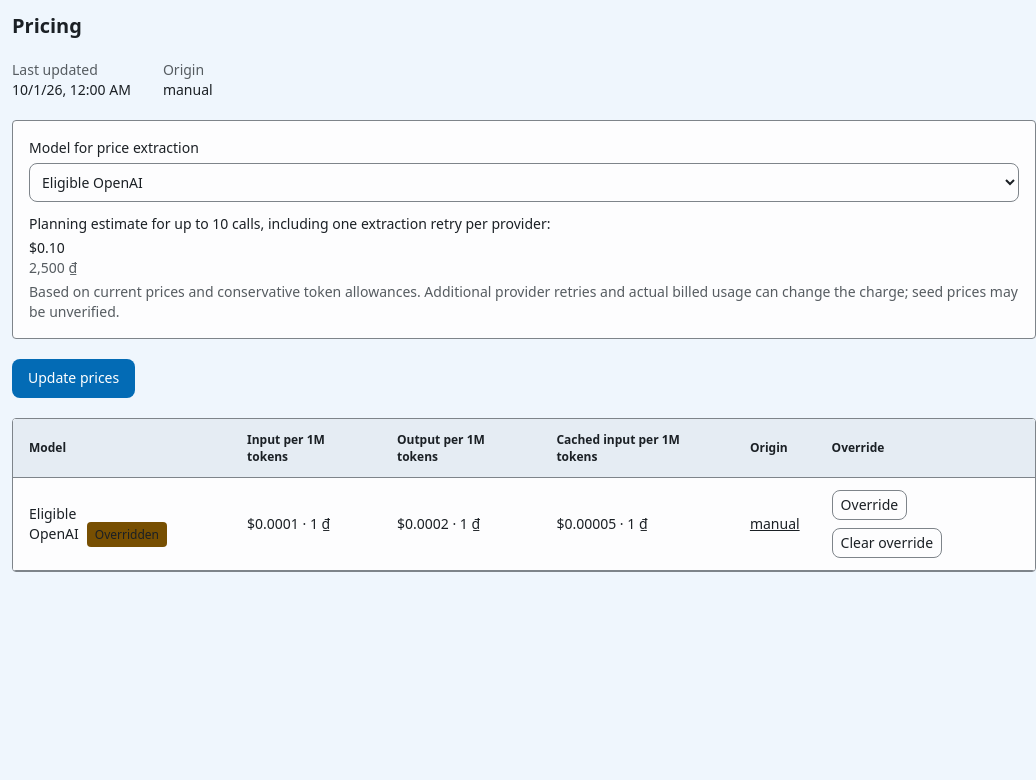
Test: PricingSettingsPage › shows only backend-eligible keyed models, previews cost, and persists a changed extraction model
The width and height of the screenshot is (1036, 780).
Expected: the text "$0.10" is shown, [29,238,65,257]
Expected: the text "up to 10 calls" is shown, [29,214,550,233]
Select "Eligible Google" in the dropdown labelled "Model for price extraction" at [524, 183], box [29,163,1019,202]
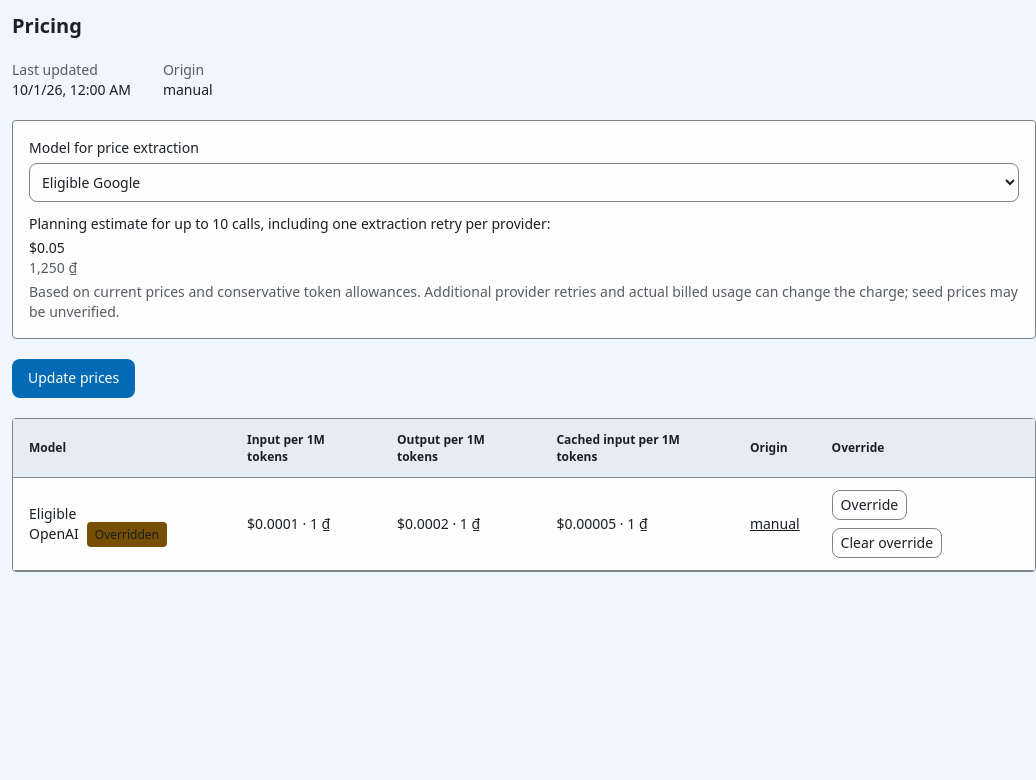
Result: the text "$0.05" is shown at [29,238,65,257]
